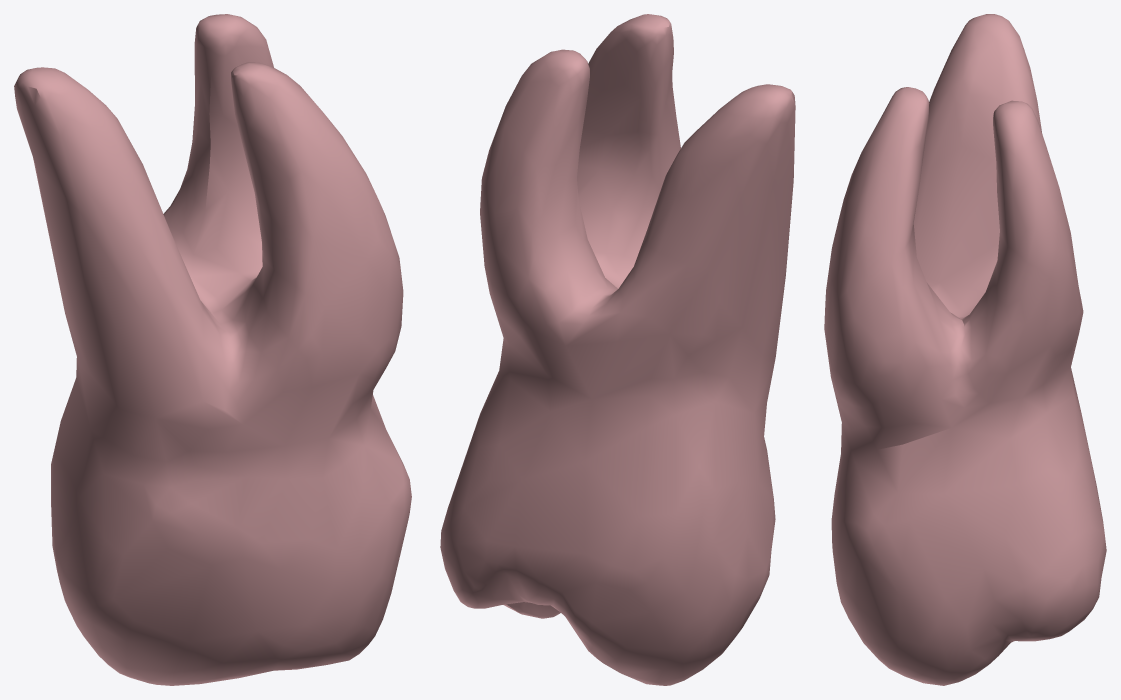
The model's file is fma55700_mm828.glb.
3 renders of one model, left to right at view 1: azimuth 30°, elevation 25°; view 2: azimuth 150°, elevation 25°; view 3: azimuth 270°, elevation 25°, orthographic. The views are drawn at different scales.
Parts seen in each view (by area): view 1: FMA55700_MM828; view 2: FMA55700_MM828; view 3: FMA55700_MM828.
Boxes of the visible parts, x1=… form: FMA55700_MM828: x1=14, y1=14, x2=411, y2=685; FMA55700_MM828: x1=440, y1=14, x2=795, y2=685; FMA55700_MM828: x1=824, y1=14, x2=1106, y2=685.
Size of the model in its own units: 0.0108 by 0.0197 by 0.00897.
